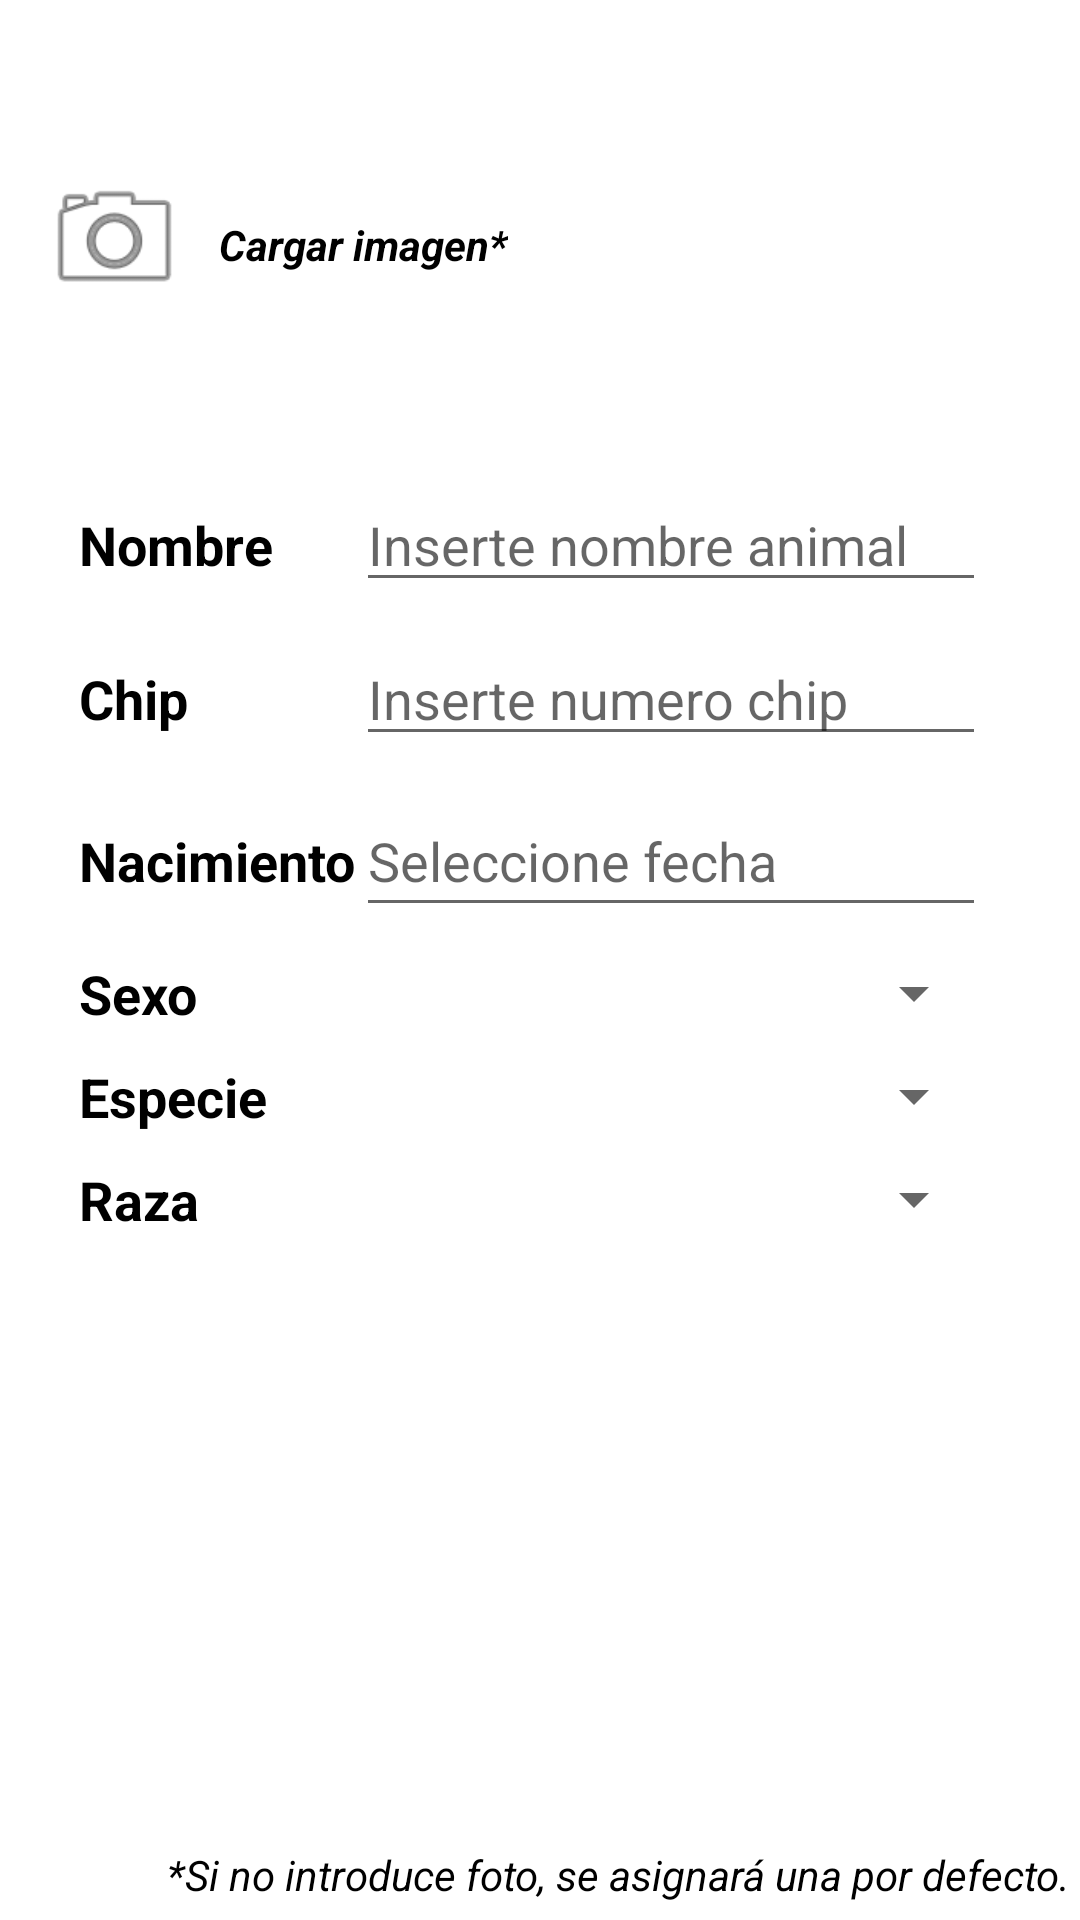

Named icons in this screenshot (1080px×1920px) and their bounding boxes, [x1, y1, x2, y2]:
camera: [58, 191, 171, 282]
